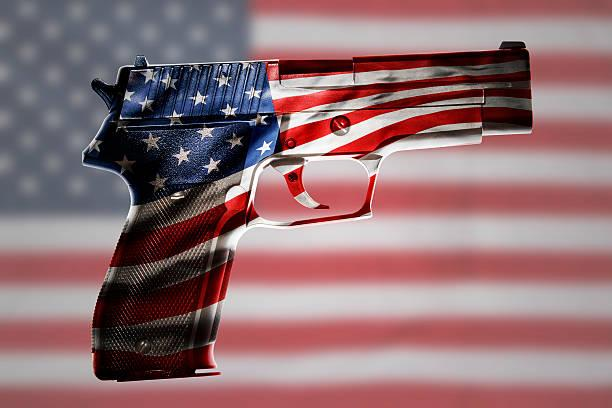weapon: (78, 35, 537, 383)
